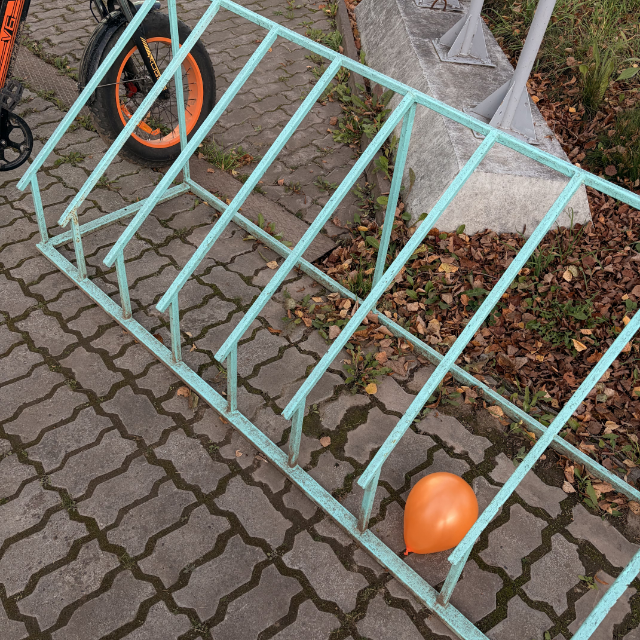balloon: (402, 471, 480, 555)
